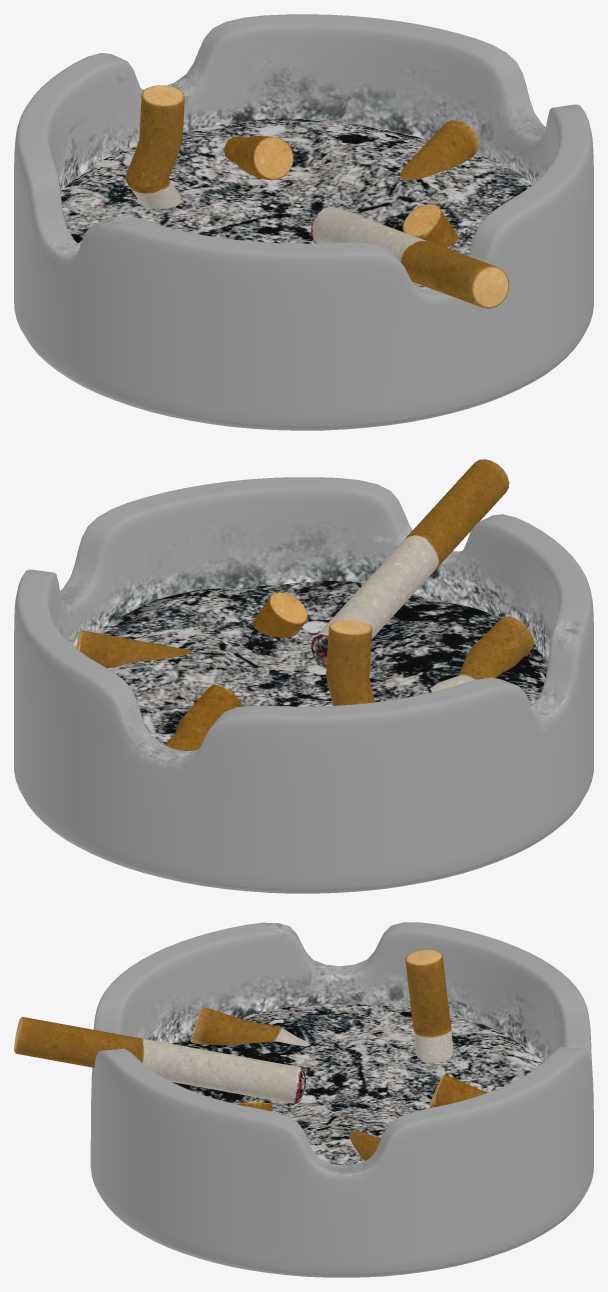
File: ashtray.glb
3 renders of one model, top to bottom at view 1: azimuth 30°, elevation 25°; view 2: azimuth 150°, elevation 25°; view 3: azimuth 270°, elevation 25°, orthographic. The views are drawn at different scales.
Parts seen in each view (by area): view 1: Object_2; view 2: Object_2; view 3: Object_2.
Boxes of the visible parts, left/top/right/bottom form: Object_2: left=14, top=14, right=593, bottom=430; Object_2: left=14, top=459, right=593, bottom=893; Object_2: left=14, top=922, right=593, bottom=1277.
Size of the model in its own units: 0.1267 by 0.0509 by 0.1461.
Materials: 1 (1 with a texture image).
